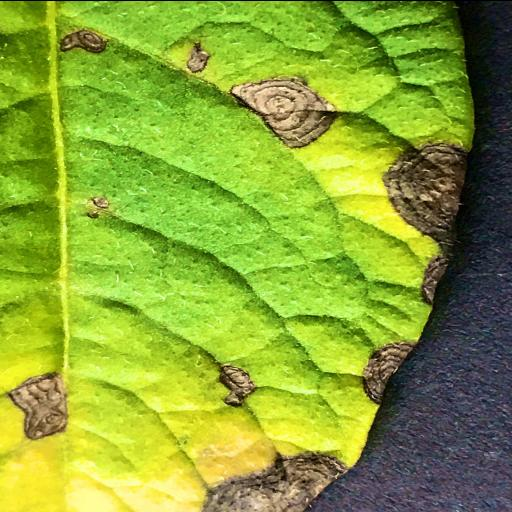Early Blight: (0, 0, 476, 512)
